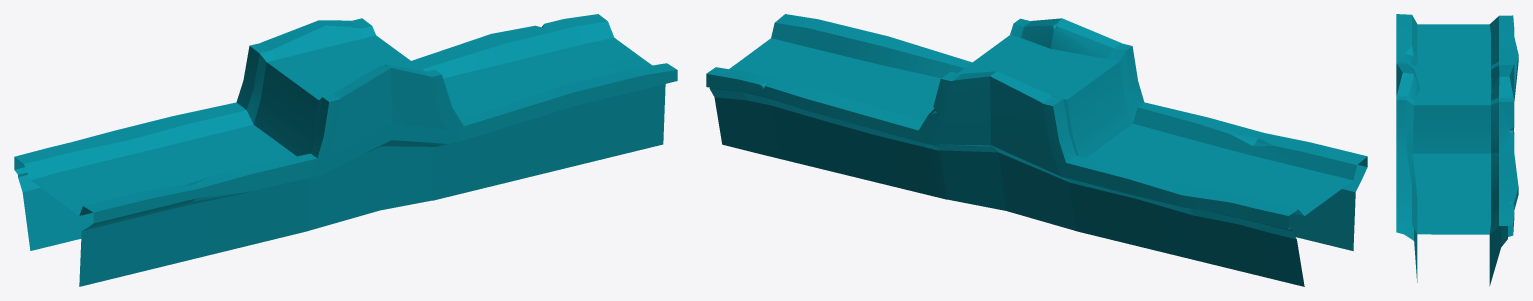
File: Lrg_Step.fbx
3 renders of one model, left to right at view 1: azimuth 30°, elevation 25°; view 2: azimuth 150°, elevation 25°; view 3: azimuth 270°, elevation 25°, orthographic. The views are drawn at different scales.
Visible parts, largest first — view 1: Lrg_Modul; view 2: Lrg_Modul; view 3: Lrg_Modul.
Part boxes in pixels (box(x1,y1,x2,y2)): Lrg_Modul: box(14, 14, 677, 286); Lrg_Modul: box(706, 14, 1367, 286); Lrg_Modul: box(1396, 14, 1518, 286).
Bounding box in the file's own units: 5.87 × 1.47 × 1.44.
